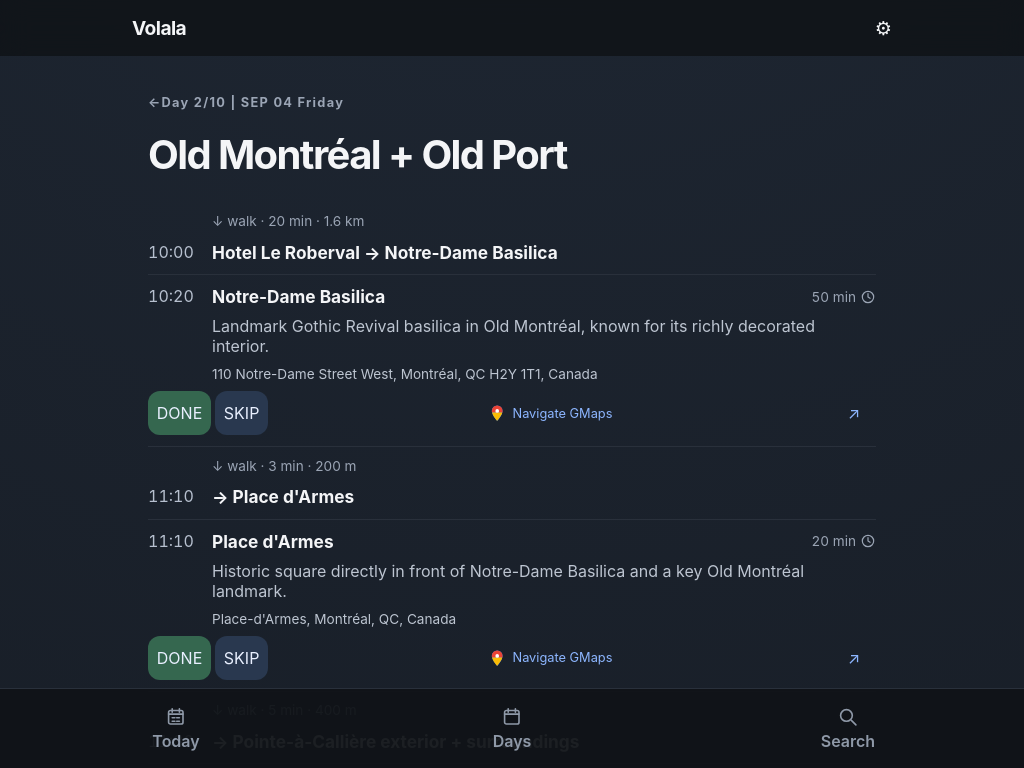
Test: day item presentation › renders DONE items compactly with UNDO and without secondary content
Click the button "DONE" below "10:20": (180, 413) [148,391,211,435]
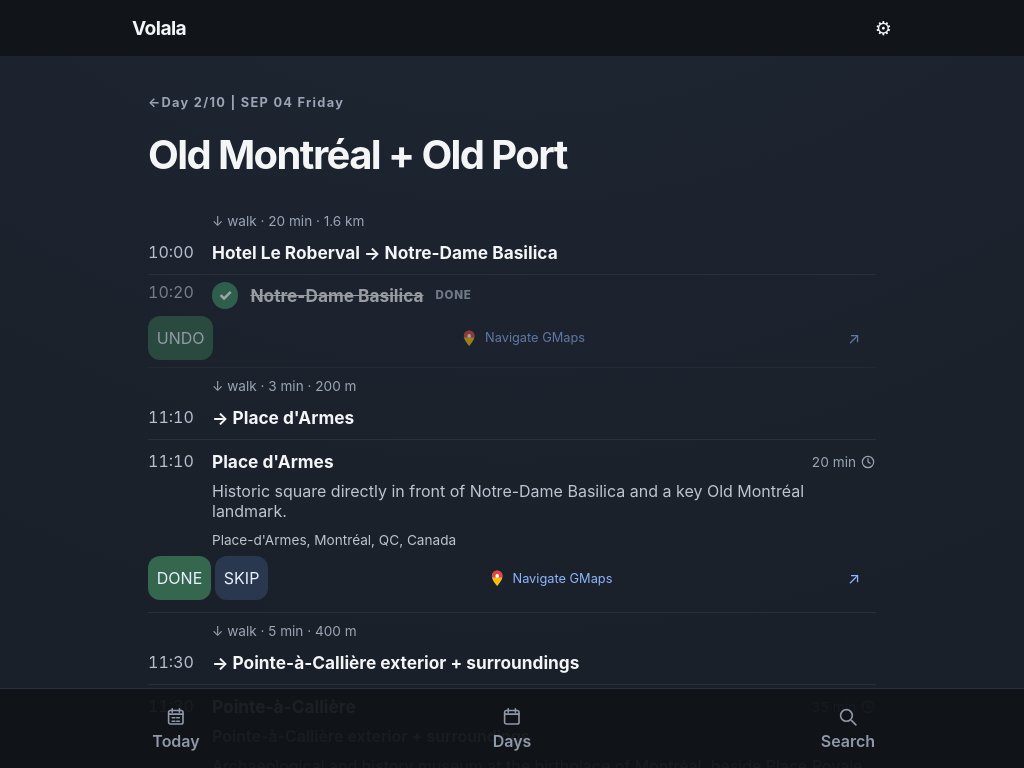
Now the button "UNDO" is shown, box [148,316,213,360]
